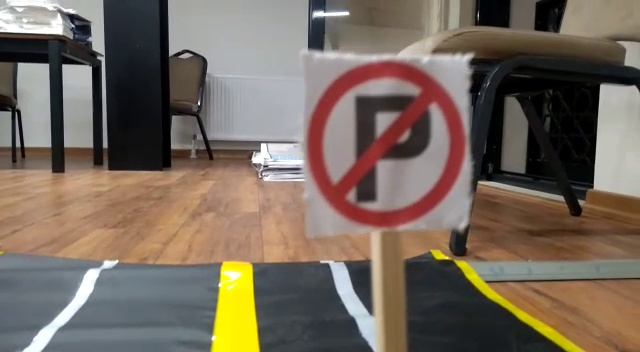park_yapilmaz: (303, 54, 467, 226)
